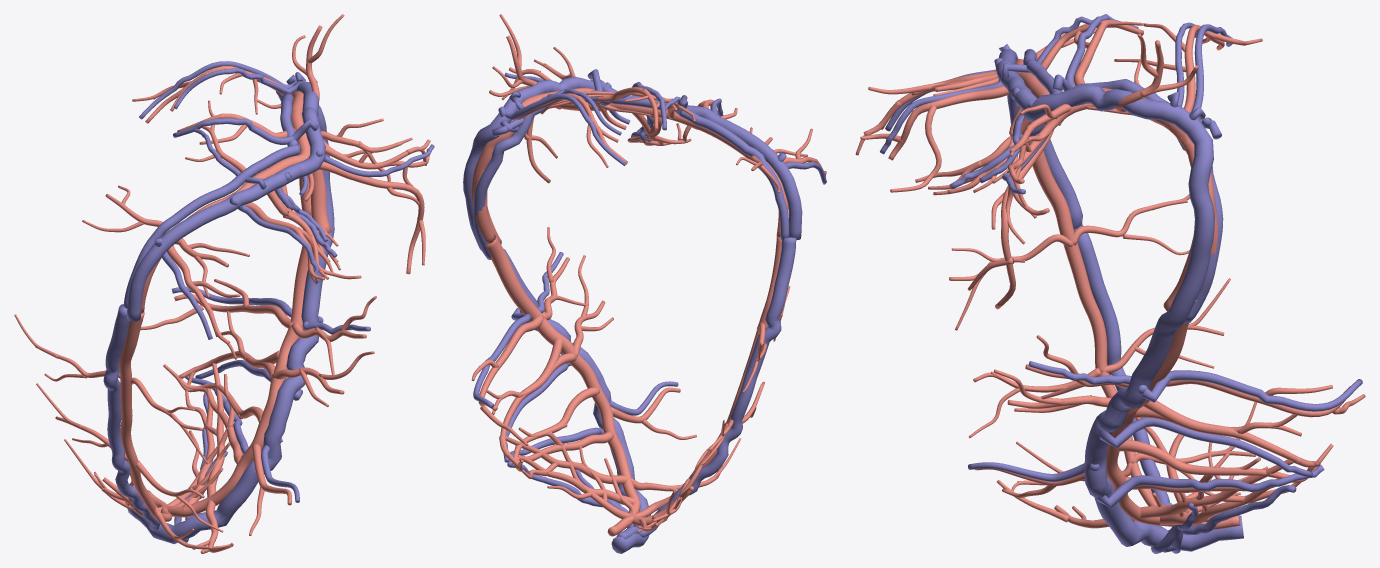
Rendered from vessels_52.glb.
The picture shows the model from 3 angles, left to right: view 1: azimuth 30°, elevation 25°; view 2: azimuth 150°, elevation 25°; view 3: azimuth 270°, elevation 25°; orthographic projection. The views are drawn at different scales.
Parts seen in each view (by area): view 1: Renderer Node; view 2: Renderer Node; view 3: Renderer Node.
Part boxes in pixels (bbox=[...]): Renderer Node: bbox=[14, 14, 434, 553]; Renderer Node: bbox=[463, 14, 826, 553]; Renderer Node: bbox=[855, 14, 1365, 553].
Bounding box in the file's own units: 88.95 × 121 × 91.36.
